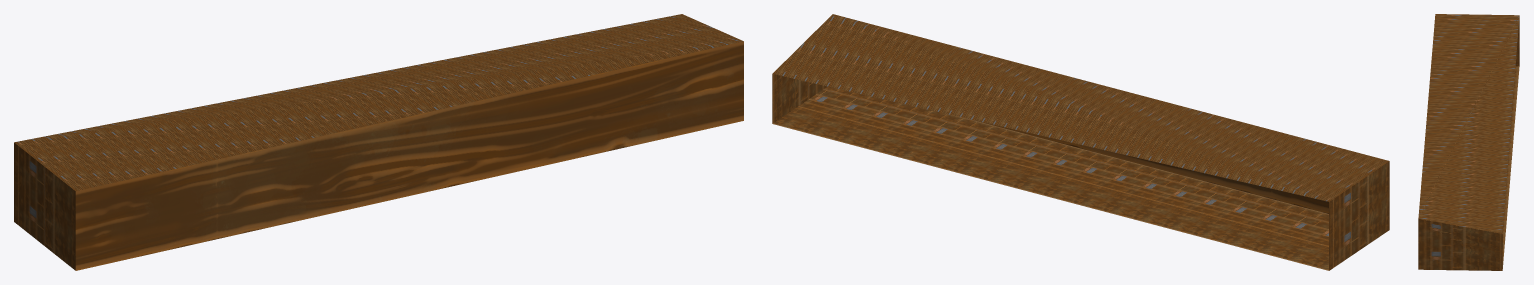
The picture shows the model from 3 angles, left to right: view 1: azimuth 30°, elevation 25°; view 2: azimuth 150°, elevation 25°; view 3: azimuth 270°, elevation 25°; orthographic projection. The views are drawn at different scales.
Visible parts, largest first — view 1: Cube.513; view 2: Cube.513; view 3: Cube.513.
Boxes of the visible parts, x1,y1,x2,y2 form: Cube.513: (14,14,743,270); Cube.513: (772,14,1389,270); Cube.513: (1418,14,1519,270).
Size of the model in its own units: 204 by 23.53 by 42.32.
1 material, 1 textured.
